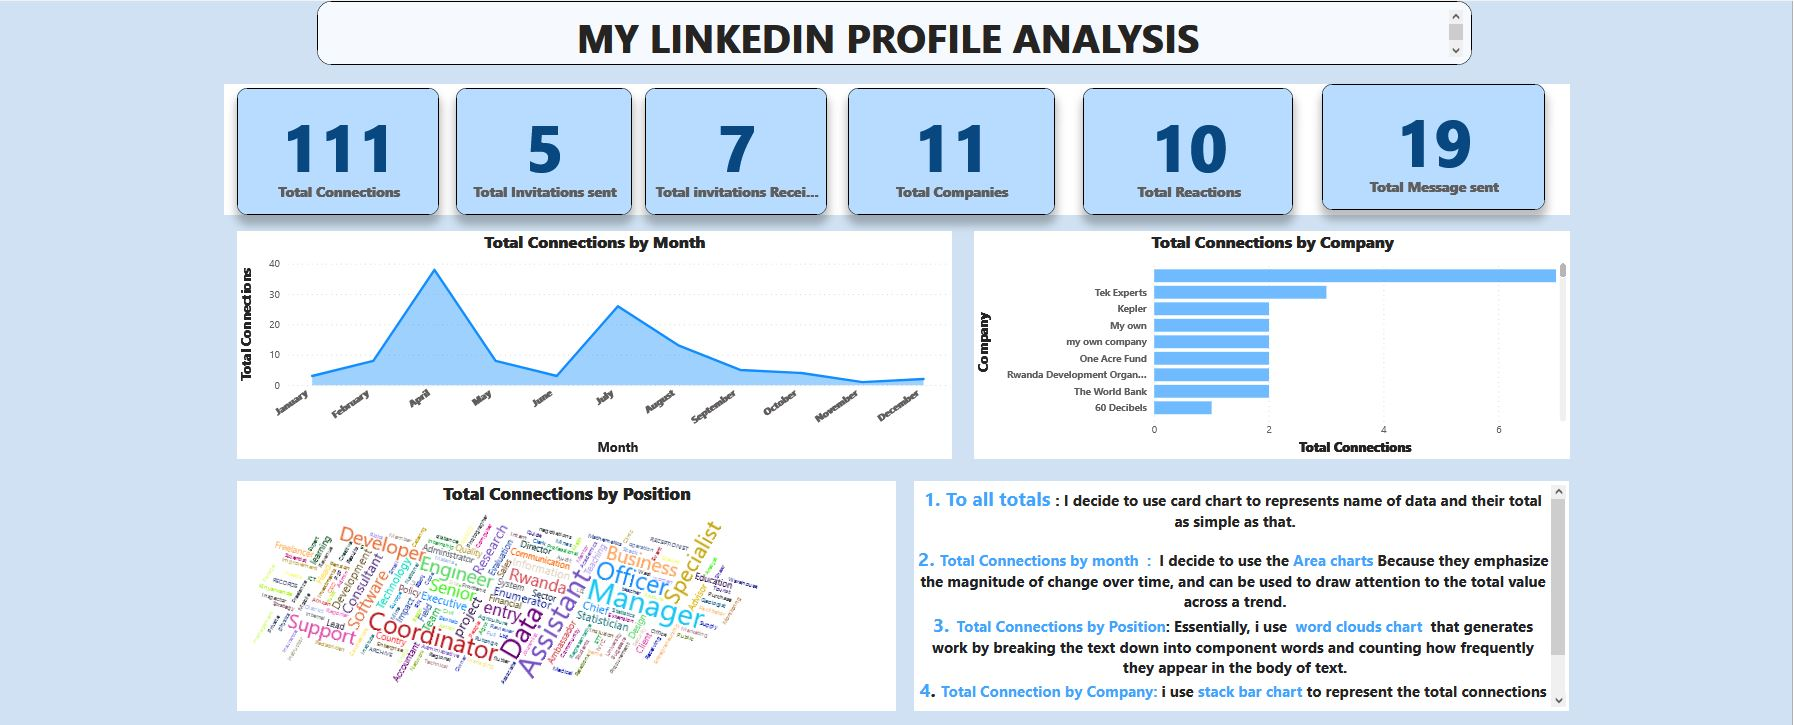

This screenshot's page, from the dashboard's own definition file:
{"tool":"powerbi","page":{"name":"Page 1","canvas":[1700,900],"ordinal":0},"visuals":[{"type":"textbox","box":[16.3,102,1671.4,163.3],"z":0},{"type":"card","fields":{"Values":["Connections.Total Connections"]},"box":[32.7,108.2,251,157.1],"z":1000},{"type":"card","fields":{"Values":["Invitations.Invitation sent"]},"box":[306.1,108.1,218.4,157.1],"z":2000},{"type":"card","fields":{"Values":["Invitations.Total invitation sent"]},"box":[540.8,108.1,226.5,157.1],"z":3000},{"type":"card","fields":{"Values":["Company.Total Company"]},"box":[791.8,108.1,257.1,157.1],"z":4000},{"type":"card","fields":{"Values":["messages.Total Message sent"]},"box":[1379.6,102,277.6,157.1],"z":5000},{"type":"card","fields":{"Values":["Reactions.Total Reactions"]},"box":[1083.7,108.1,261.2,157.1],"z":6000},{"type":"areaChart","fields":{"Category":["Connections.Connected On.Variation.Date Hierarchy.Month"],"Y":["Connections.Total Connections"]},"box":[32.7,285.7,887.8,283.7],"z":7000},{"type":"barChart","fields":{"Category":["Connections.Company"],"Y":["Connections.Total Connections"]},"box":[946.9,285.7,740.8,283.7],"z":8000},{"type":"WordCloud1447959067750","fields":{"Category":["Connections.Position"],"Values":["Connections.Total Connections"]},"box":[32.7,595.9,818.4,285.7],"z":9000},{"type":"textbox","box":[873.5,595.9,814.3,285.7],"z":10000},{"type":"textbox","box":[132.7,0,1434.7,79.6],"z":11000}]}

Visuals, with their boxes on the page's 1700x900 design canvas (x1, y1, x2, y2). These are canvas units, not pixel positions in the 1794x725 screenshot, which may show the page scaled, cropped or inside an application window:
textbox: bbox(16, 102, 1688, 265)
card - Connections.Total Connections: bbox(33, 108, 284, 265)
card - Invitations.Invitation sent: bbox(306, 108, 524, 265)
card - Invitations.Total invitation sent: bbox(541, 108, 767, 265)
card - Company.Total Company: bbox(792, 108, 1049, 265)
card - messages.Total Message sent: bbox(1380, 102, 1657, 259)
card - Reactions.Total Reactions: bbox(1084, 108, 1345, 265)
areaChart - Connections.Connected On.Variation.Date Hierarchy.Month x Connections.Total Connections: bbox(33, 286, 920, 569)
barChart - Connections.Company x Connections.Total Connections: bbox(947, 286, 1688, 569)
WordCloud1447959067750 - Connections.Position x Connections.Total Connections: bbox(33, 596, 851, 882)
textbox: bbox(874, 596, 1688, 882)
textbox: bbox(133, 0, 1567, 80)
